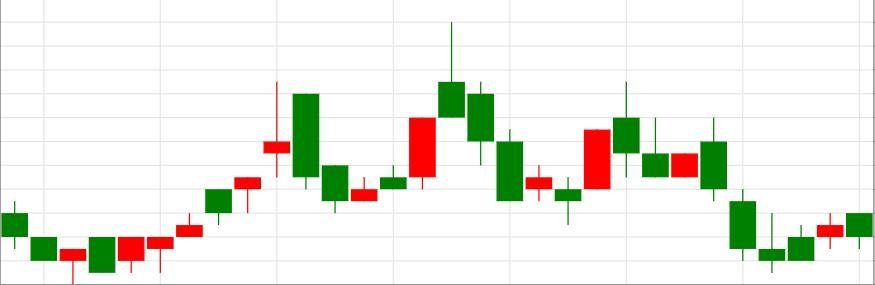shooting_star_fall: (321, 21, 467, 212)
